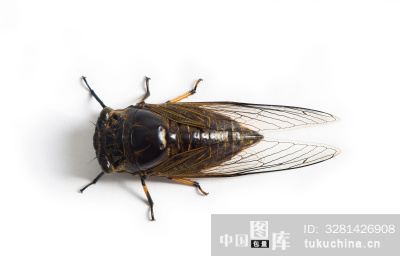chan: (83, 88, 327, 195)
